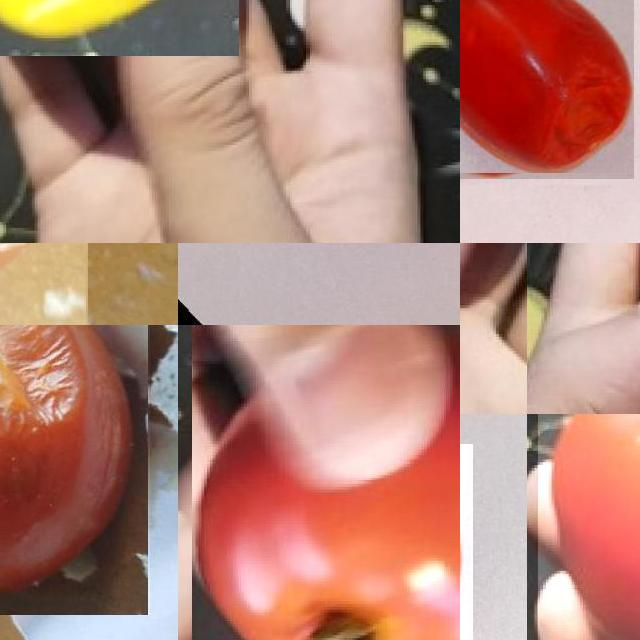0: (192, 325, 460, 640)
1: (0, 325, 150, 615)
Fresh Tomato: (538, 414, 640, 640)
Rotten Tomato: (460, 0, 634, 179)
